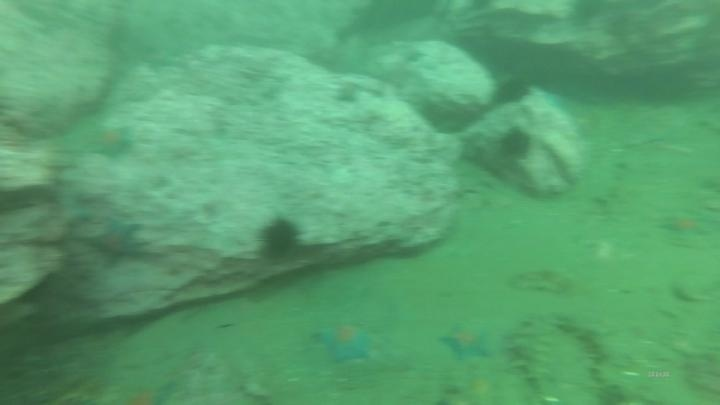echinus: (256, 214, 304, 263), (495, 125, 535, 164), (491, 74, 534, 109)
holothurian: (505, 312, 560, 397), (552, 312, 629, 365), (509, 266, 573, 296), (584, 365, 631, 405)
starfish: (85, 214, 148, 270), (312, 318, 377, 366), (436, 320, 495, 365), (83, 121, 138, 164), (655, 207, 716, 244), (452, 368, 507, 405), (112, 376, 180, 403)
